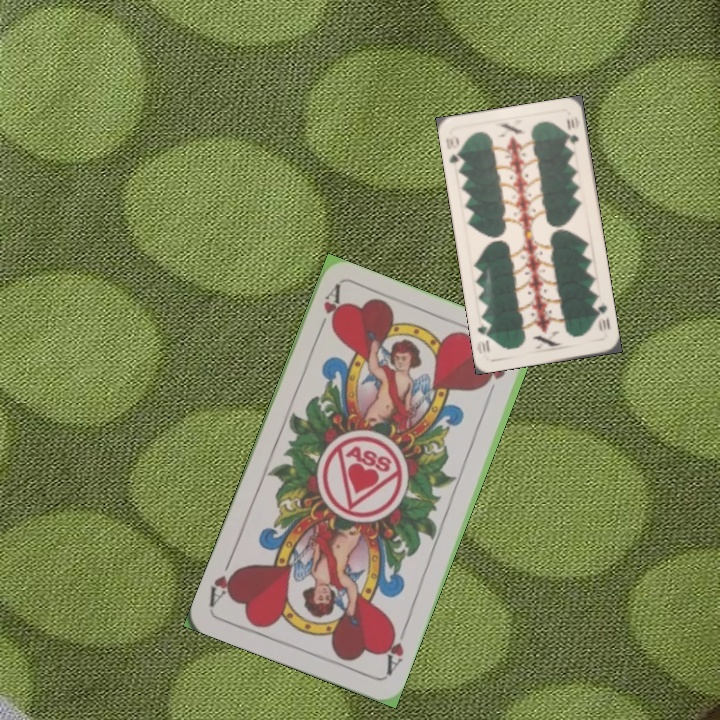G10: (442, 132, 466, 170), (590, 298, 613, 333)
HA: (379, 620, 410, 678), (312, 283, 344, 339)
